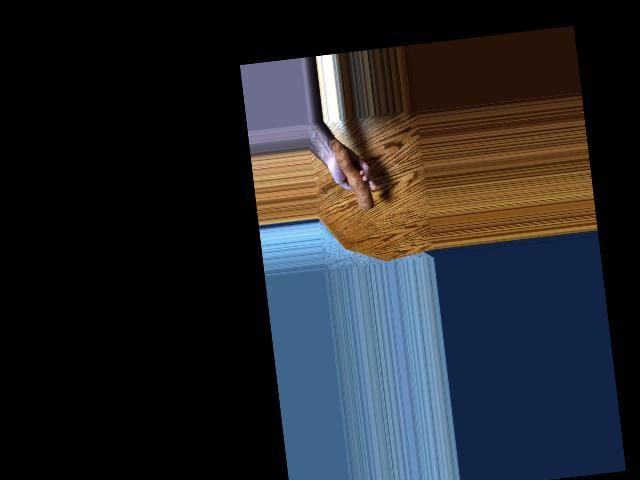sweet_potato: (329, 135, 369, 211)
